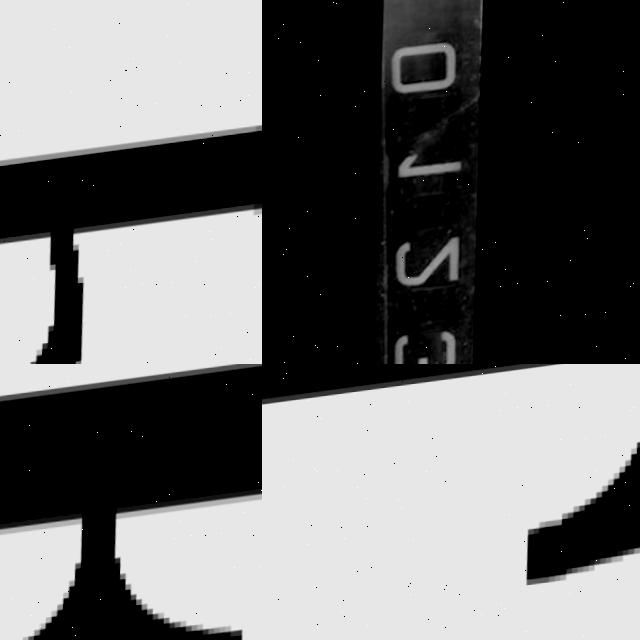0: (386, 36, 465, 101)
1: (391, 144, 474, 191)
2: (394, 233, 473, 294)
3: (390, 326, 470, 364)
F: (0, 364, 262, 640)
L: (262, 364, 640, 640)
